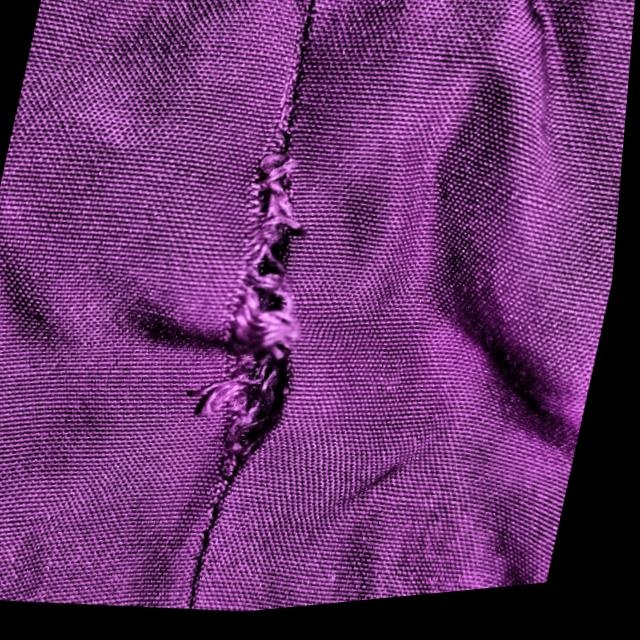seam: (80, 63, 475, 592)
